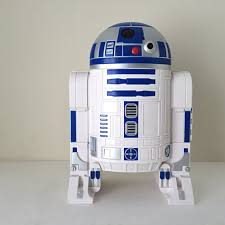r2d2: (69, 22, 194, 206)
